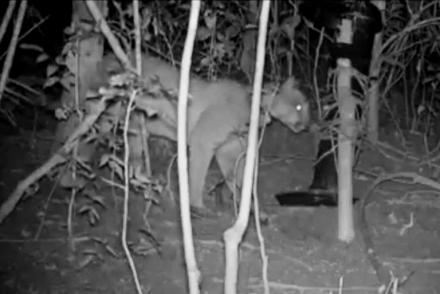OncaParda: (91, 49, 310, 232)
